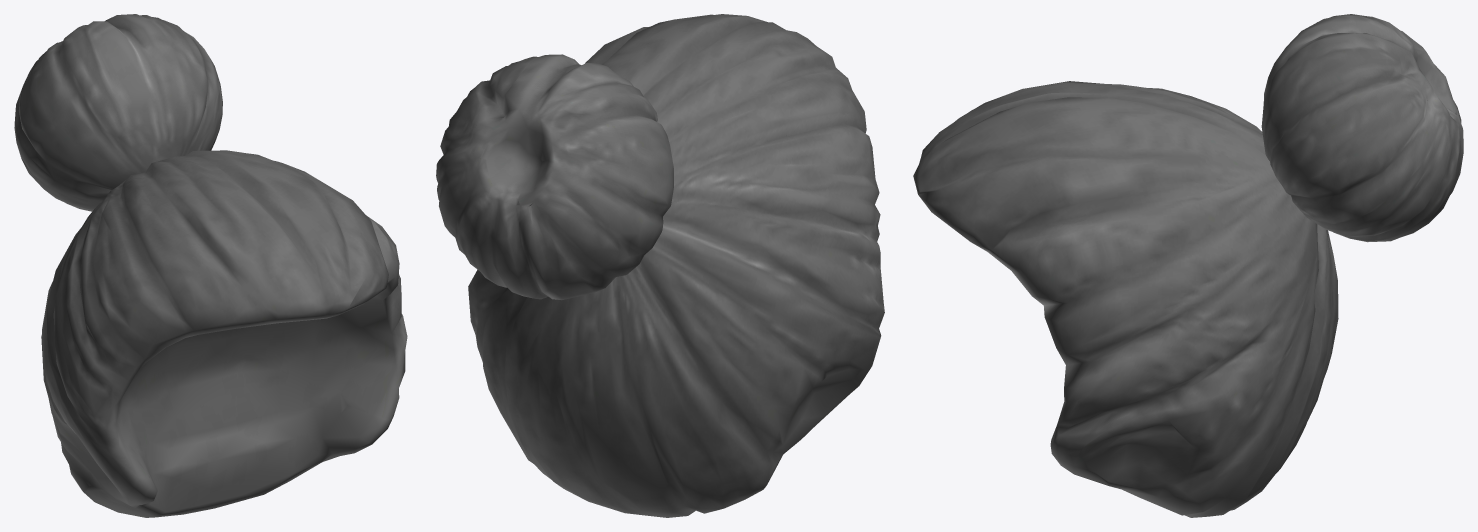
File: peloybotones.fbx
3 views of the same model, side by side, from view 1: azimuth 30°, elevation 25°; view 2: azimuth 150°, elevation 25°; view 3: azimuth 270°, elevation 25° (orthographic). The views are drawn at different scales.
Parts seen in each view (by area): view 1: Hair_lowpo_1, PM3D_Sphere3D4_1; view 2: Hair_lowpo_1, PM3D_Sphere3D4_1; view 3: Hair_lowpo_1, PM3D_Sphere3D4_1.
Part boxes in pixels (left/top/right/bottom): Hair_lowpo_1: left=41, top=150, right=407, bottom=517; PM3D_Sphere3D4_1: left=14, top=14, right=222, bottom=211; Hair_lowpo_1: left=468, top=14, right=884, bottom=517; PM3D_Sphere3D4_1: left=436, top=54, right=673, bottom=300; Hair_lowpo_1: left=913, top=81, right=1338, bottom=517; PM3D_Sphere3D4_1: left=1261, top=14, right=1463, bottom=242.
Size of the model in its own units: 1.22 by 1.54 by 1.64.
